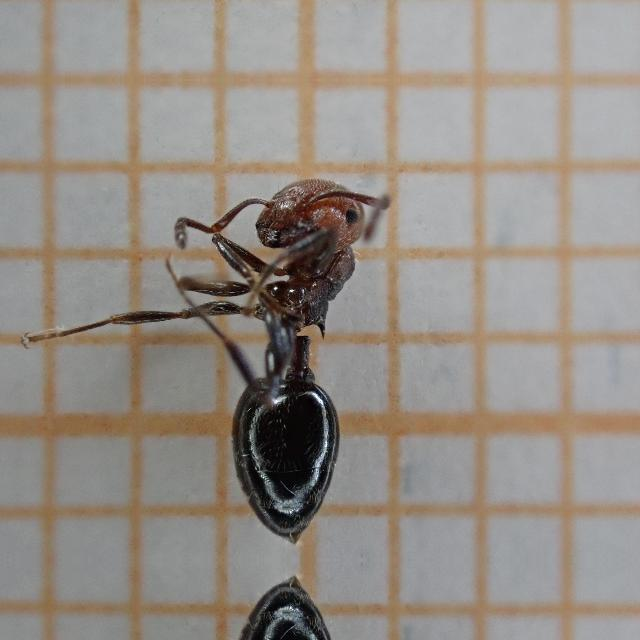Crematogaster: (150, 160, 388, 556)
